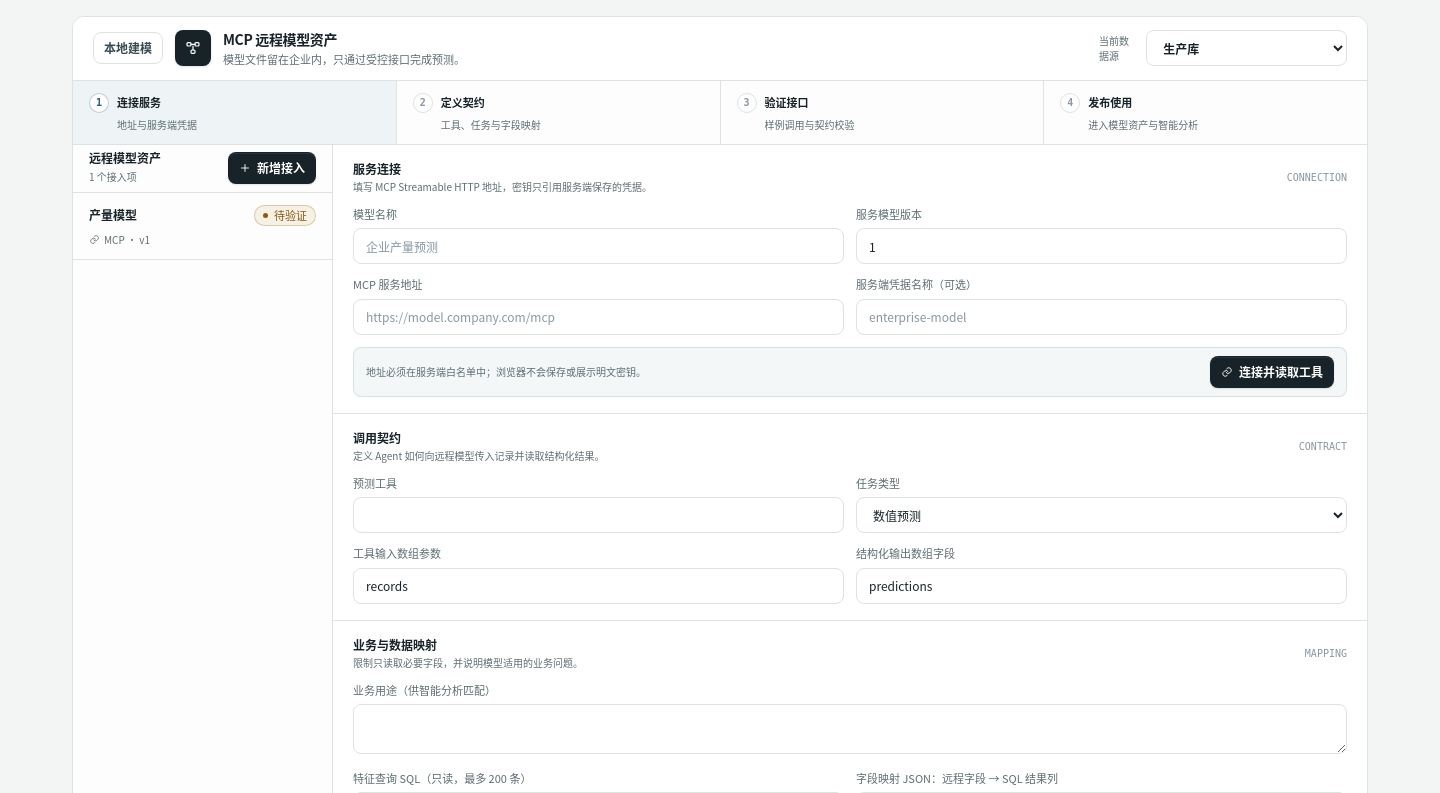
Test: remote models › gates prediction until validation and publication
Click the text "产量模型".
click(113, 215)  # box [89,207,137,223]
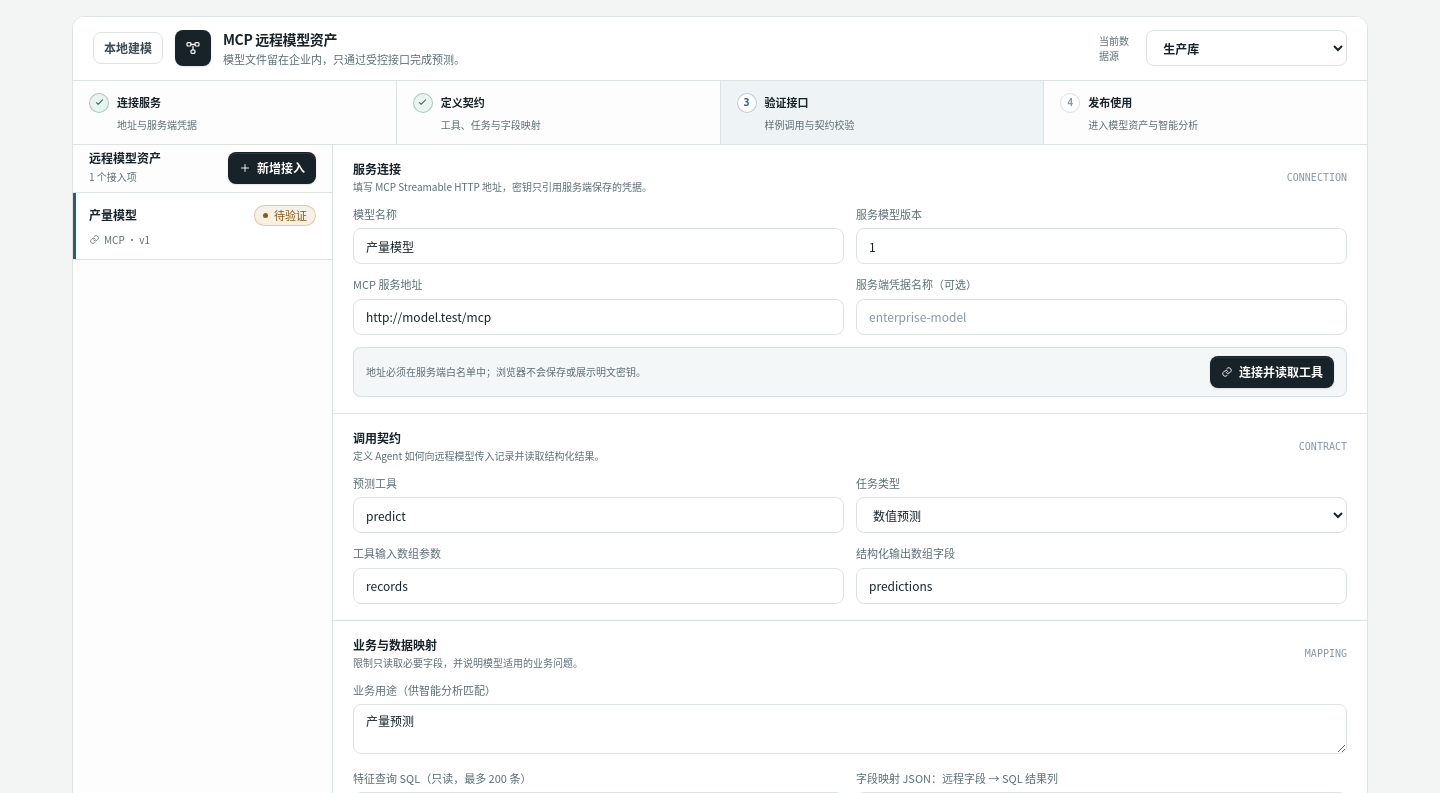
Replace the text in the field labelled "模型名称" with "修改名称" at (598, 246), box [353,228,844,264]
(page scrolled)
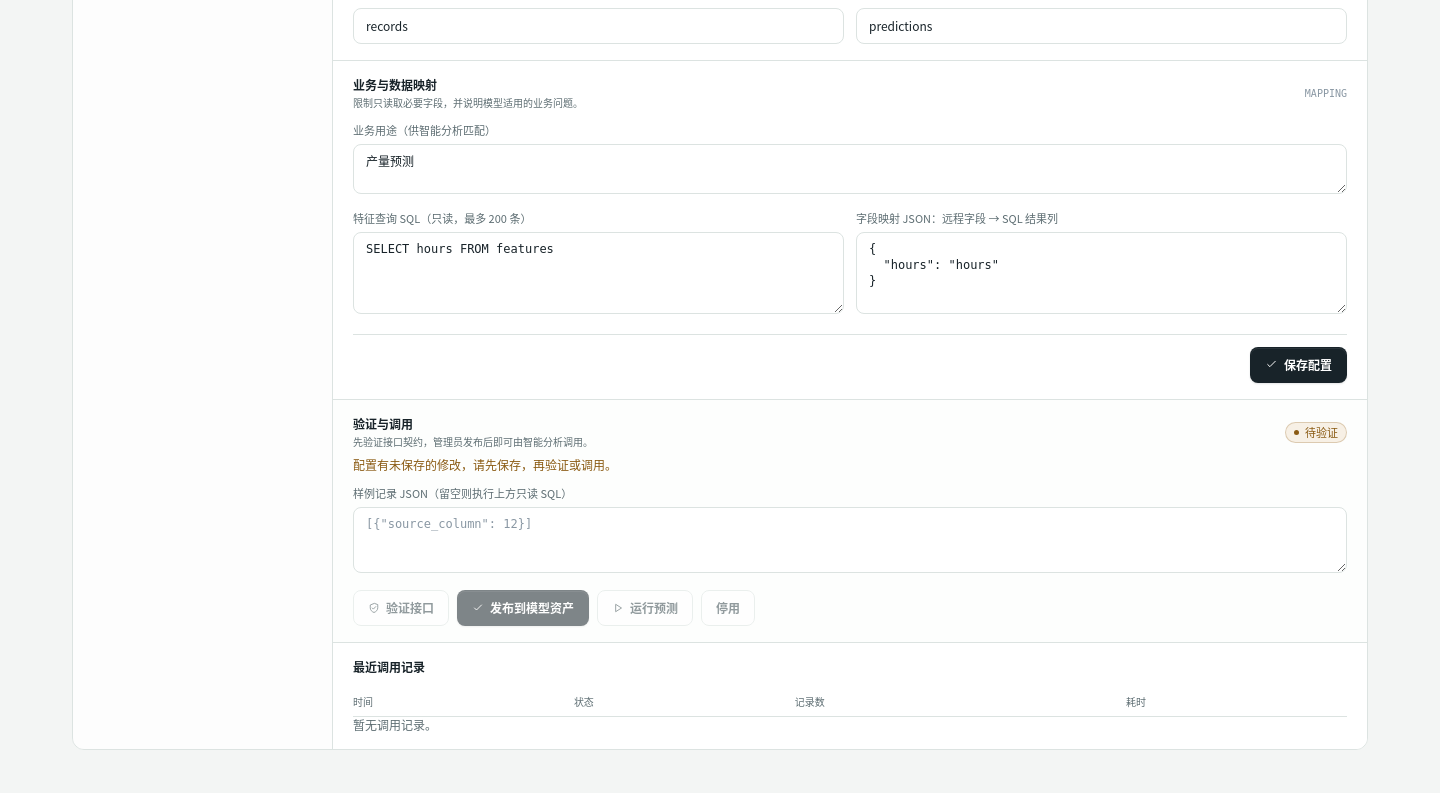
Now the button "验证接口" is disabled, box [353,590,449,626]
